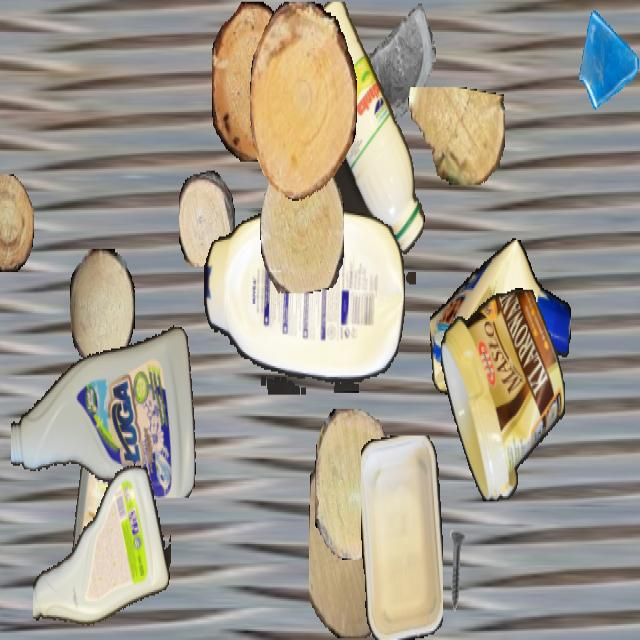glass: (364, 2, 436, 130), (577, 1, 640, 116)
metal: (374, 439, 434, 546), (432, 528, 480, 613)
plastic: (204, 210, 404, 394), (296, 1, 426, 282), (11, 313, 199, 498), (440, 288, 564, 501), (33, 457, 171, 638), (430, 237, 570, 407), (361, 436, 443, 638), (67, 386, 133, 602)
wood: (250, 2, 356, 201), (309, 439, 397, 638), (212, 2, 294, 162), (260, 150, 344, 292), (315, 409, 395, 558), (407, 87, 505, 183), (70, 249, 134, 363), (179, 170, 235, 266), (0, 174, 33, 270)
